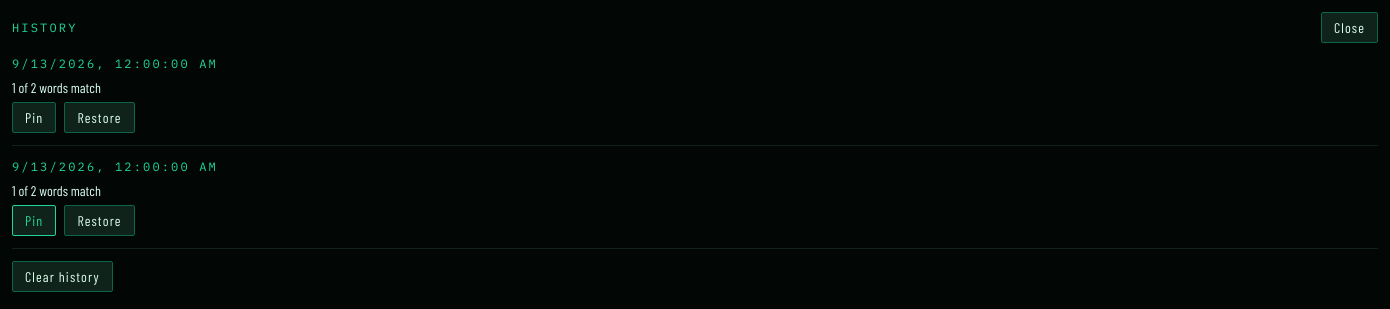
it: HistoryPanel › clears unpinned attempts after confirmation
Click the button "Clear history" at (62, 276), box [12,261,113,292]
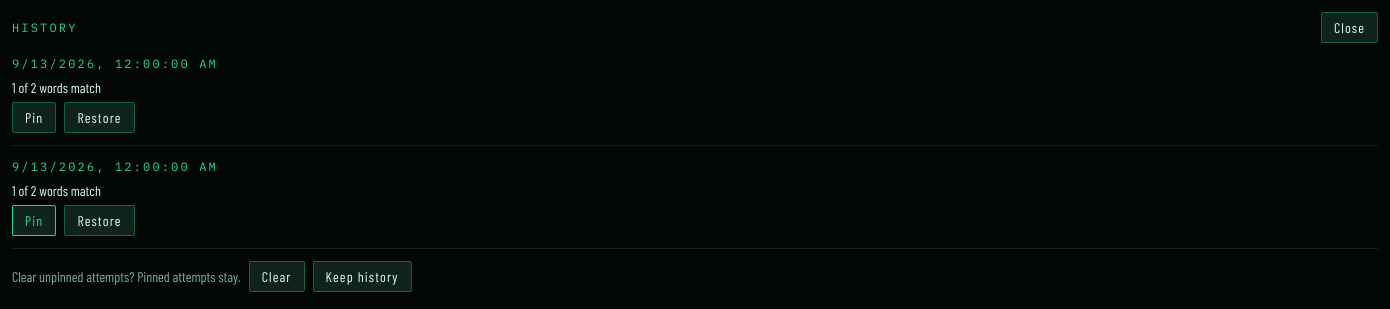
Expected: the element "History" shows "Pinned attempts stay.", [12,268,241,285]
Click the button "Keep history" at (362, 276), box [313,261,412,292]
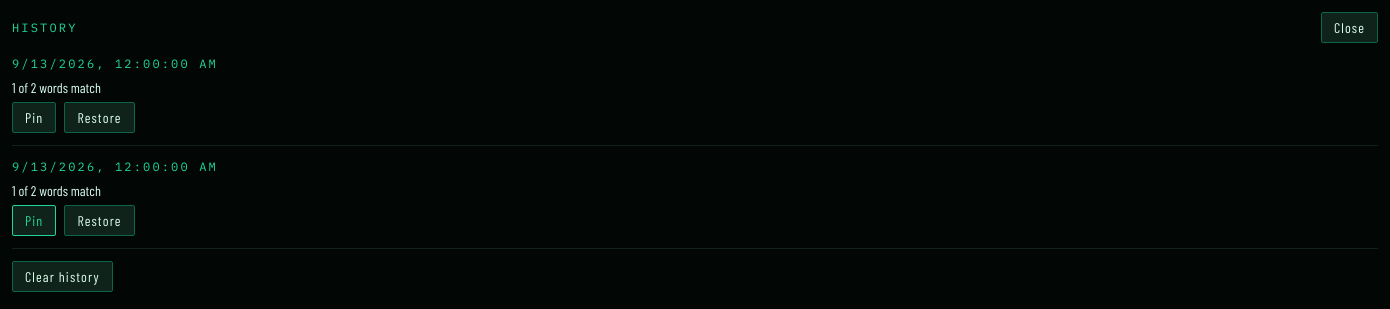
Click the button "Clear history" at (62, 276), box [12,261,113,292]
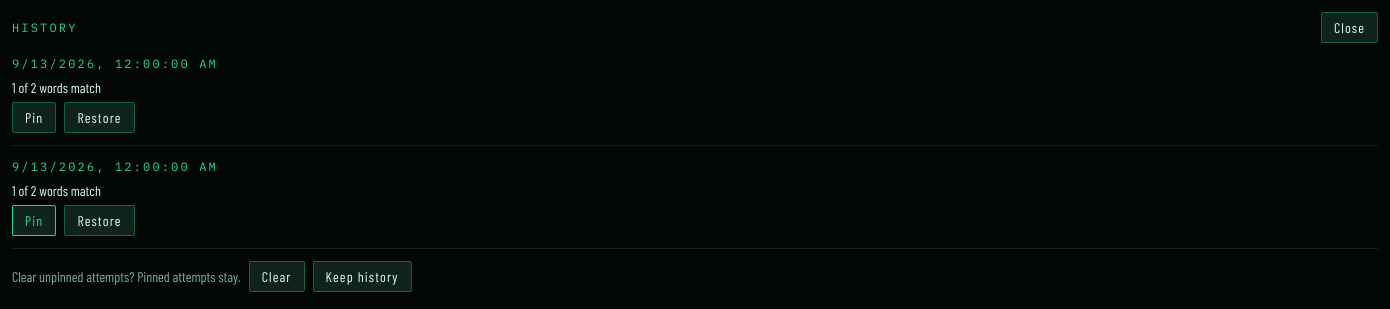
Click the button "Clear" at (277, 276), box [249,261,305,292]
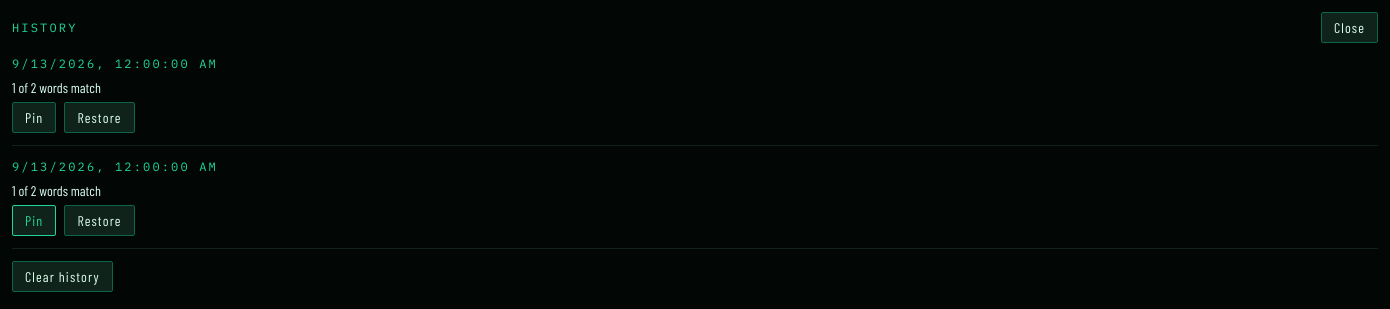
Expected: the button "Clear history" is shown, [12,261,113,292]
